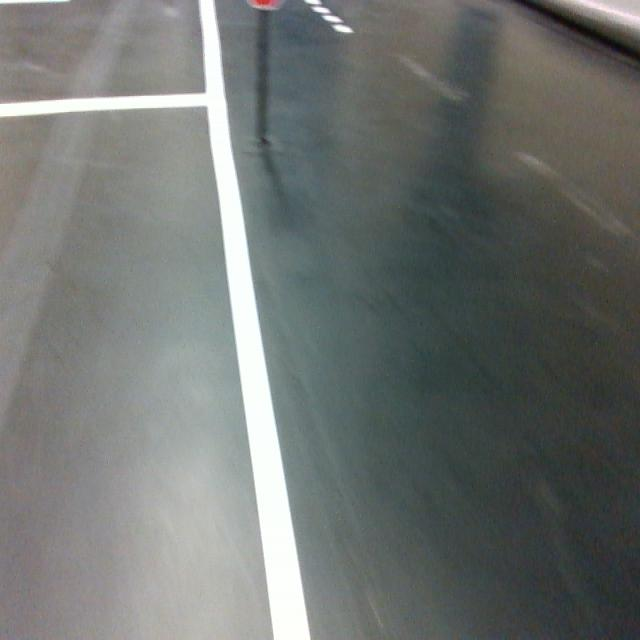stop-sign: (245, 0, 286, 13)
